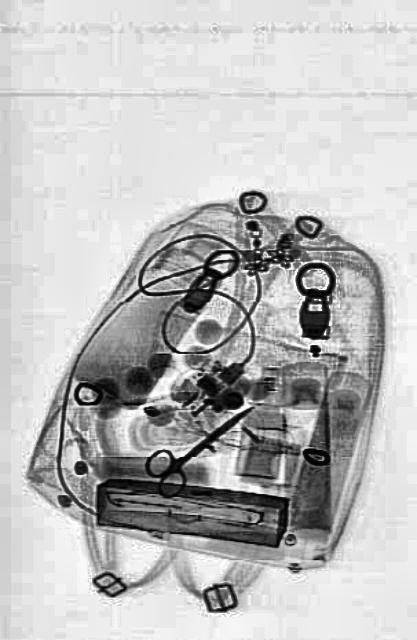Scissors: (142, 381, 260, 507)
